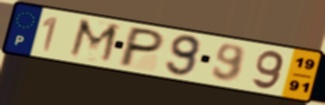1: (40, 16, 59, 53)
9: (163, 33, 202, 79), (210, 43, 246, 84), (251, 49, 286, 91)
M: (66, 17, 123, 67)
P: (115, 25, 168, 69)
